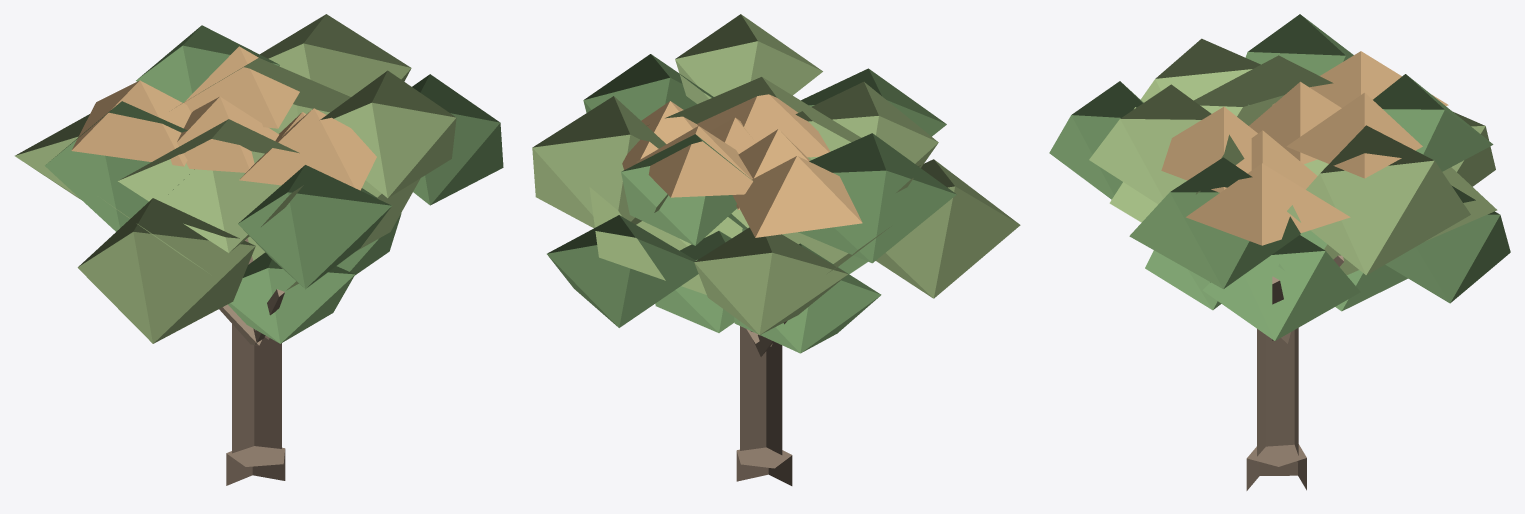
The model's file is tree.trop.flame_tree__bloom.glb.
3 views of the same model, side by side, from view 1: azimuth 30°, elevation 25°; view 2: azimuth 150°, elevation 25°; view 3: azimuth 270°, elevation 25° (orthographic). The views are drawn at different scales.
Parts seen in each view (by area): view 1: tree.trop.flame_tree__bloom; view 2: tree.trop.flame_tree__bloom; view 3: tree.trop.flame_tree__bloom.
Part boxes in pixels (bbox=[...]): tree.trop.flame_tree__bloom: bbox=[15, 14, 503, 485]; tree.trop.flame_tree__bloom: bbox=[532, 14, 1020, 485]; tree.trop.flame_tree__bloom: bbox=[1049, 14, 1510, 490].
Bounding box in the file's own units: 12.01 × 11.93 × 11.36.
